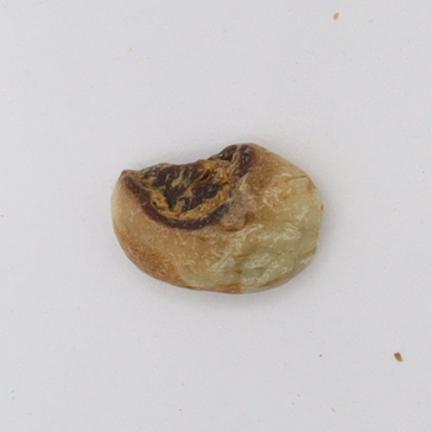cut: (111, 143, 322, 293)
